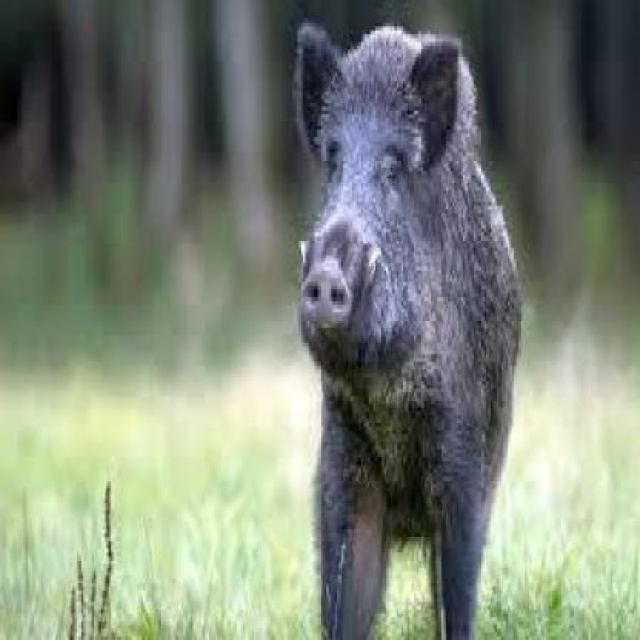wildboar: (294, 12, 523, 640)
